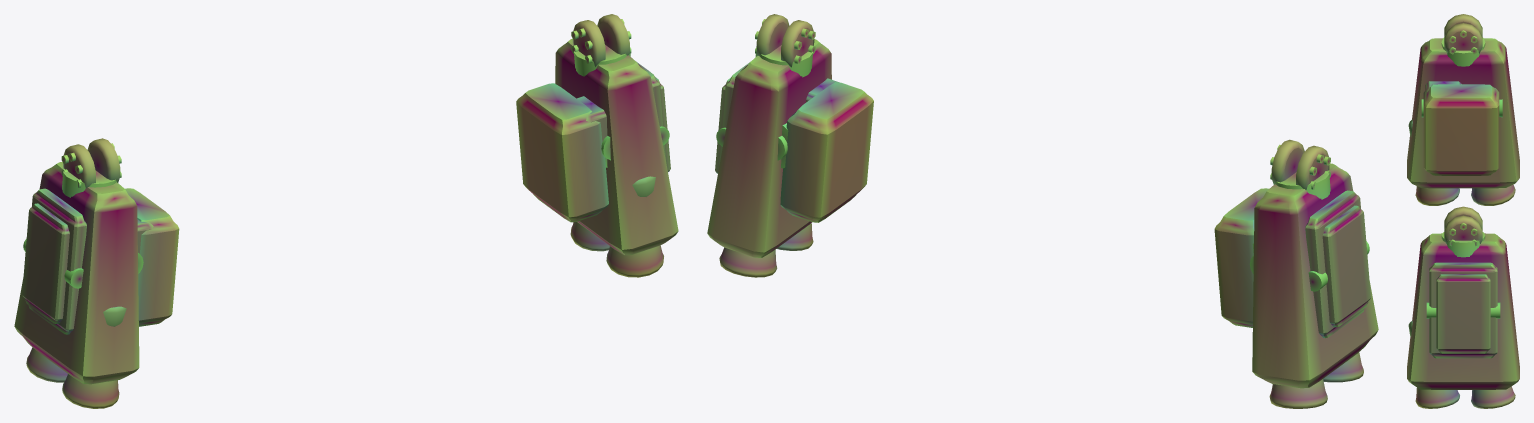
File: llm_gen_leg_thrusters_034_3fa2ba.glb
The picture shows the model from 3 angles, left to right: view 1: azimuth 30°, elevation 25°; view 2: azimuth 150°, elevation 25°; view 3: azimuth 270°, elevation 25°; orthographic projection. The views are drawn at different scales.
Parts seen in each view (by area): view 1: flare_cowling_main_0_barrel_metal_l, flare_cowling_main_0_barrel_metal_r, adapter_calf_clamp_r, flare_louver_gold_3_amber_optic_l, adapter_calf_clamp_l, adapter_sub_louver_frame_dark_1_adapter_dark_l, servo_5_servo_accent_r, servo_5_servo_accent_l, flare_bell_fwd_6_vernier_bell_vernier_l, flare_bell_fwd_6_vernier_bell_vernier_r, flare_bell_aft_7_vernier_bell_vernier_l, flare_bell_aft_7_vernier_bell_vernier_r (+2 smaller); view 2: flare_cowling_main_0_barrel_metal_l, flare_cowling_main_0_barrel_metal_r, adapter_calf_clamp_r, flare_louver_gold_3_amber_optic_l, adapter_calf_clamp_l, adapter_sub_louver_frame_dark_1_adapter_dark_l, servo_5_servo_accent_r, servo_5_servo_accent_l, flare_bell_aft_7_vernier_bell_vernier_l, flare_bell_aft_7_vernier_bell_vernier_r, flare_bell_fwd_6_vernier_bell_vernier_l, adapter_sub_top_cap_dark_4_adapter_dark_l (+1 smaller); view 3: flare_cowling_main_0_barrel_metal_r, flare_cowling_main_0_barrel_metal_l, adapter_calf_clamp_l, flare_louver_gold_3_amber_optic_r, adapter_sub_louver_frame_dark_1_adapter_dark_r, servo_5_servo_accent_l, servo_5_servo_accent_r, flare_bell_aft_7_vernier_bell_vernier_r, flare_bell_fwd_6_vernier_bell_vernier_r, flare_bell_aft_7_vernier_bell_vernier_l, flare_bell_fwd_6_vernier_bell_vernier_l, adapter_sub_top_cap_dark_4_adapter_dark_r (+6 smaller).
Boxes of the visible parts, x1,y1,x2,y2 form: flare_cowling_main_0_barrel_metal_l: (14,162,139,384); flare_cowling_main_0_barrel_metal_r: (555,38,678,255); adapter_calf_clamp_r: (516,83,608,222); flare_louver_gold_3_amber_optic_l: (22,203,69,323); adapter_calf_clamp_l: (125,188,179,326); adapter_sub_louver_frame_dark_1_adapter_dark_l: (24,188,86,334); servo_5_servo_accent_r: (572,14,629,66); servo_5_servo_accent_l: (63,138,120,188); flare_bell_fwd_6_vernier_bell_vernier_l: (62,374,119,408); flare_bell_fwd_6_vernier_bell_vernier_r: (606,245,663,277); flare_bell_aft_7_vernier_bell_vernier_l: (26,347,67,382); flare_bell_aft_7_vernier_bell_vernier_r: (570,222,609,251); flare_cowling_main_0_barrel_metal_l: (1252,163,1378,388); flare_cowling_main_0_barrel_metal_r: (707,39,831,257); adapter_calf_clamp_r: (780,82,873,222); flare_louver_gold_3_amber_optic_l: (1322,205,1370,327); adapter_calf_clamp_l: (1214,188,1268,327); adapter_sub_louver_frame_dark_1_adapter_dark_l: (1305,190,1368,338); servo_5_servo_accent_r: (756,14,814,67); servo_5_servo_accent_l: (1271,139,1329,189); flare_bell_aft_7_vernier_bell_vernier_l: (1269,379,1327,408); flare_bell_aft_7_vernier_bell_vernier_r: (719,247,777,277); flare_bell_fwd_6_vernier_bell_vernier_l: (1323,352,1363,382); adapter_sub_top_cap_dark_4_adapter_dark_l: (1275,170,1330,199); flare_cowling_main_0_barrel_metal_r: (1407,233,1519,389); flare_cowling_main_0_barrel_metal_l: (1407,38,1519,188); adapter_calf_clamp_l: (1423,84,1499,175); flare_louver_gold_3_amber_optic_r: (1436,274,1490,353); adapter_sub_louver_frame_dark_1_adapter_dark_r: (1429,262,1497,358); servo_5_servo_accent_l: (1444,14,1482,53); servo_5_servo_accent_r: (1444,206,1482,243); flare_bell_aft_7_vernier_bell_vernier_r: (1471,386,1515,408); flare_bell_fwd_6_vernier_bell_vernier_r: (1415,387,1459,408); flare_bell_aft_7_vernier_bell_vernier_l: (1471,185,1515,205); flare_bell_fwd_6_vernier_bell_vernier_l: (1415,186,1459,205); adapter_sub_top_cap_dark_4_adapter_dark_r: (1441,232,1485,257).
Bounding box in the file's own units: 80.38 × 29.72 × 16.45.
